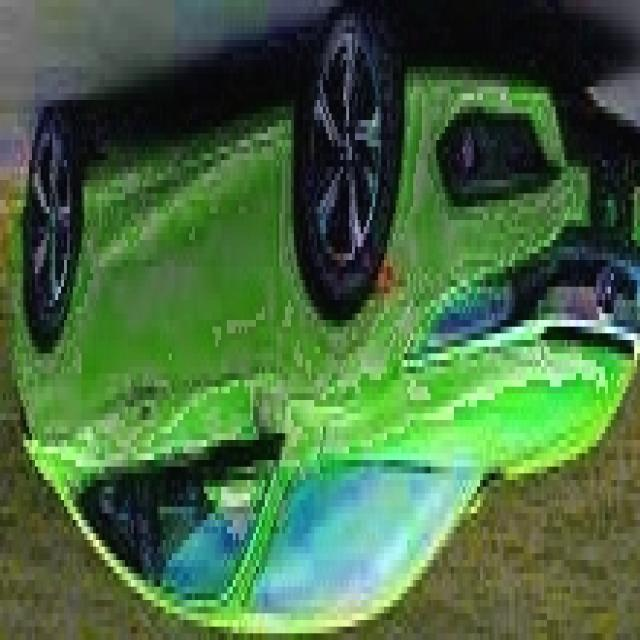green: (0, 0, 634, 627)
